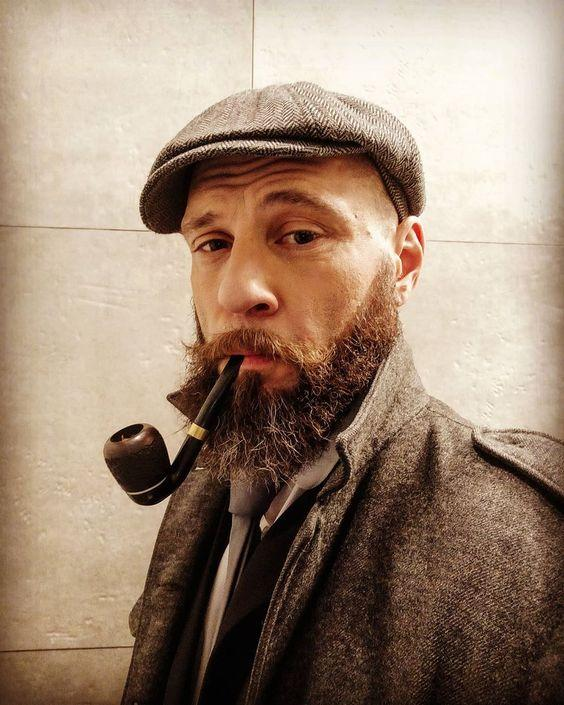trubka: (103, 355, 247, 506)
